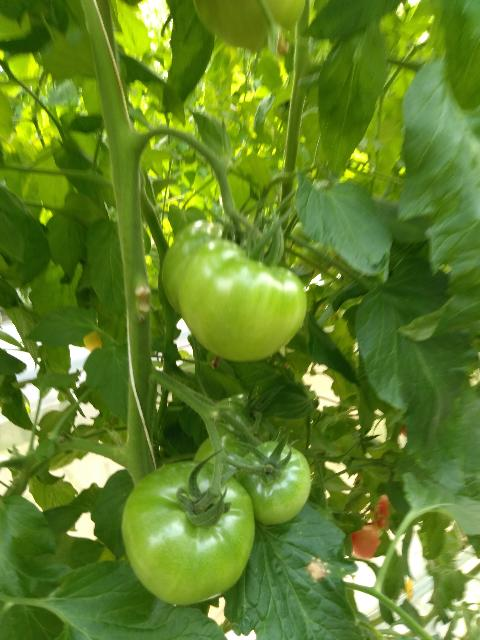b_green: (121, 459, 255, 605), (178, 240, 307, 362), (160, 221, 230, 319), (239, 441, 312, 525)
